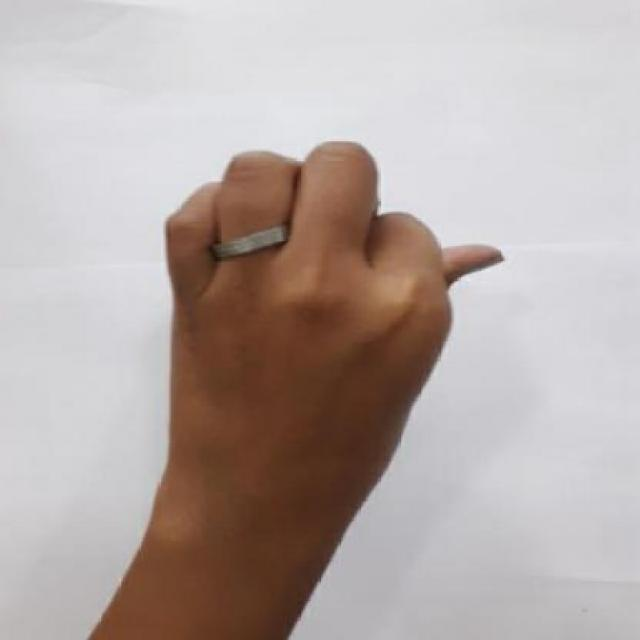without_gloves: (130, 128, 515, 612)
